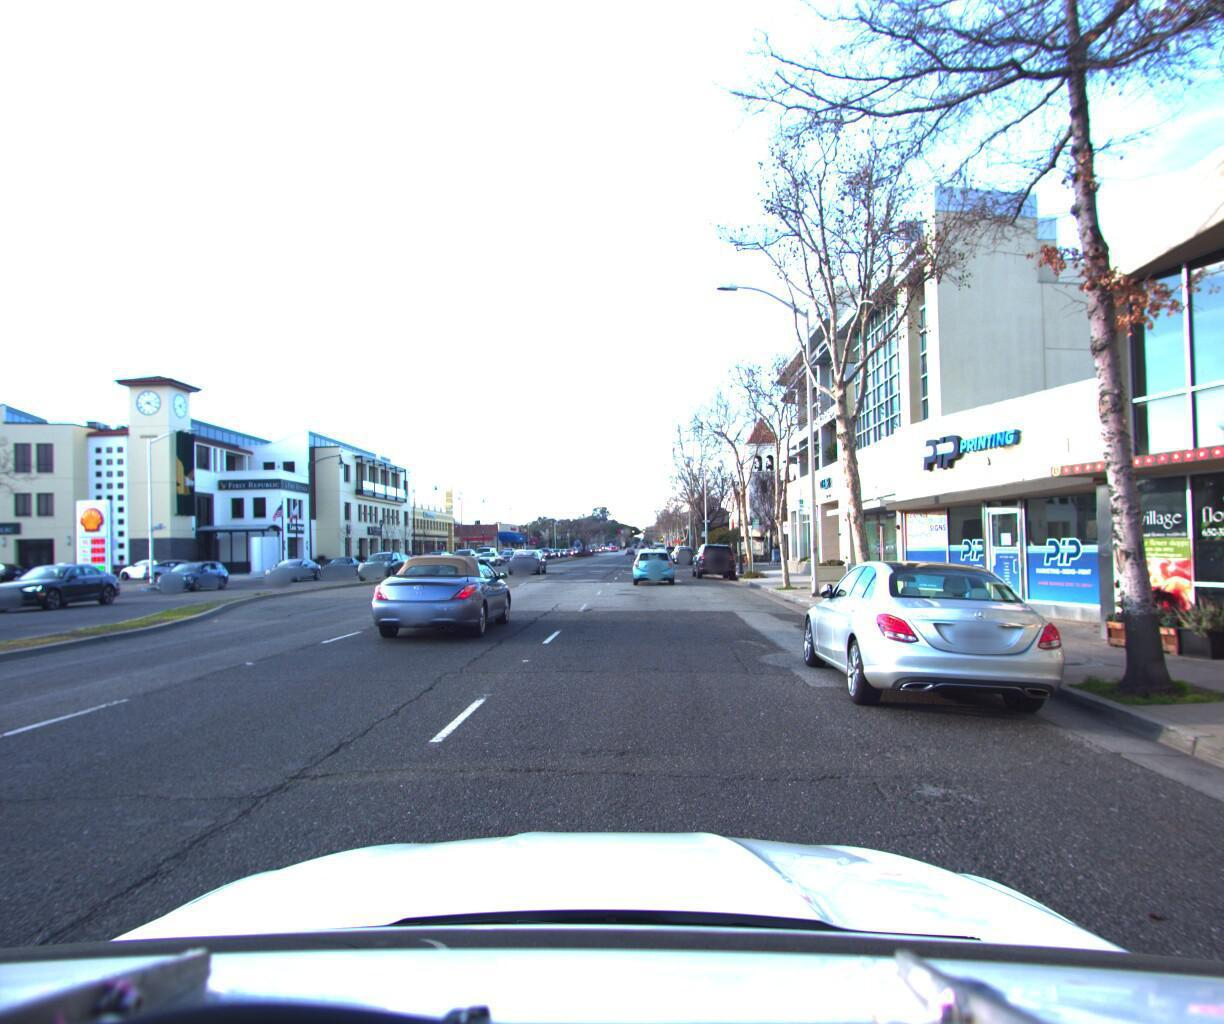car: (796, 547, 1087, 741), (368, 546, 517, 644), (152, 554, 237, 592), (140, 554, 228, 583), (116, 551, 188, 579), (690, 538, 738, 577), (354, 547, 411, 578), (632, 542, 675, 583), (264, 553, 326, 581), (505, 543, 545, 570), (317, 551, 365, 573), (669, 539, 693, 559), (674, 542, 694, 561)
